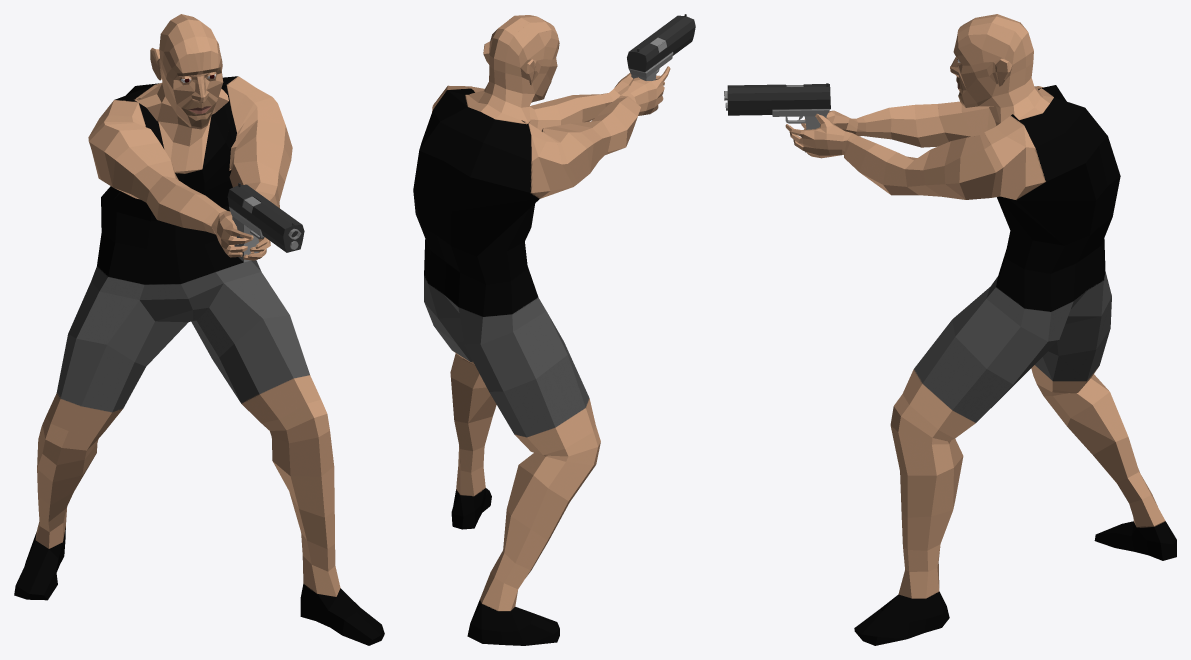
Rendered from PlayerShoot(25).obj.
The picture shows the model from 3 angles, left to right: view 1: azimuth 30°, elevation 25°; view 2: azimuth 150°, elevation 25°; view 3: azimuth 270°, elevation 25°; orthographic projection. The views are drawn at different scales.
Parts seen in each view (by area): view 1: Plane002, Box003; view 2: Plane002, Box003; view 3: Plane002, Box003.
Boxes of the visible parts, x1,y1,x2,y2 form: Plane002: (14, 14, 384, 645); Box003: (227, 183, 304, 262); Plane002: (413, 15, 670, 645); Box003: (627, 14, 695, 80); Plane002: (785, 14, 1176, 645); Box003: (724, 83, 830, 152).
Size of the model in its own units: 713 by 1664 by 1201.
